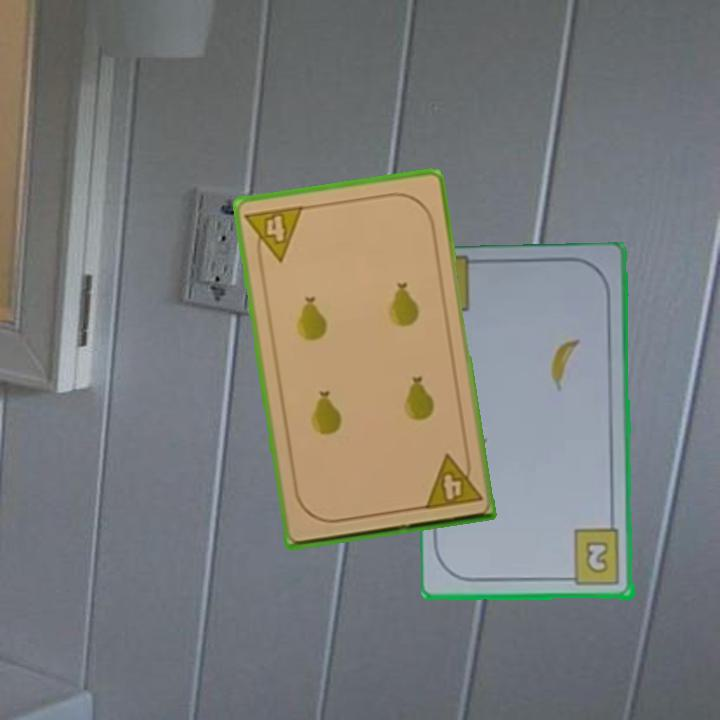2b: (562, 527, 623, 589)
4p: (242, 202, 307, 267), (420, 449, 485, 513)
